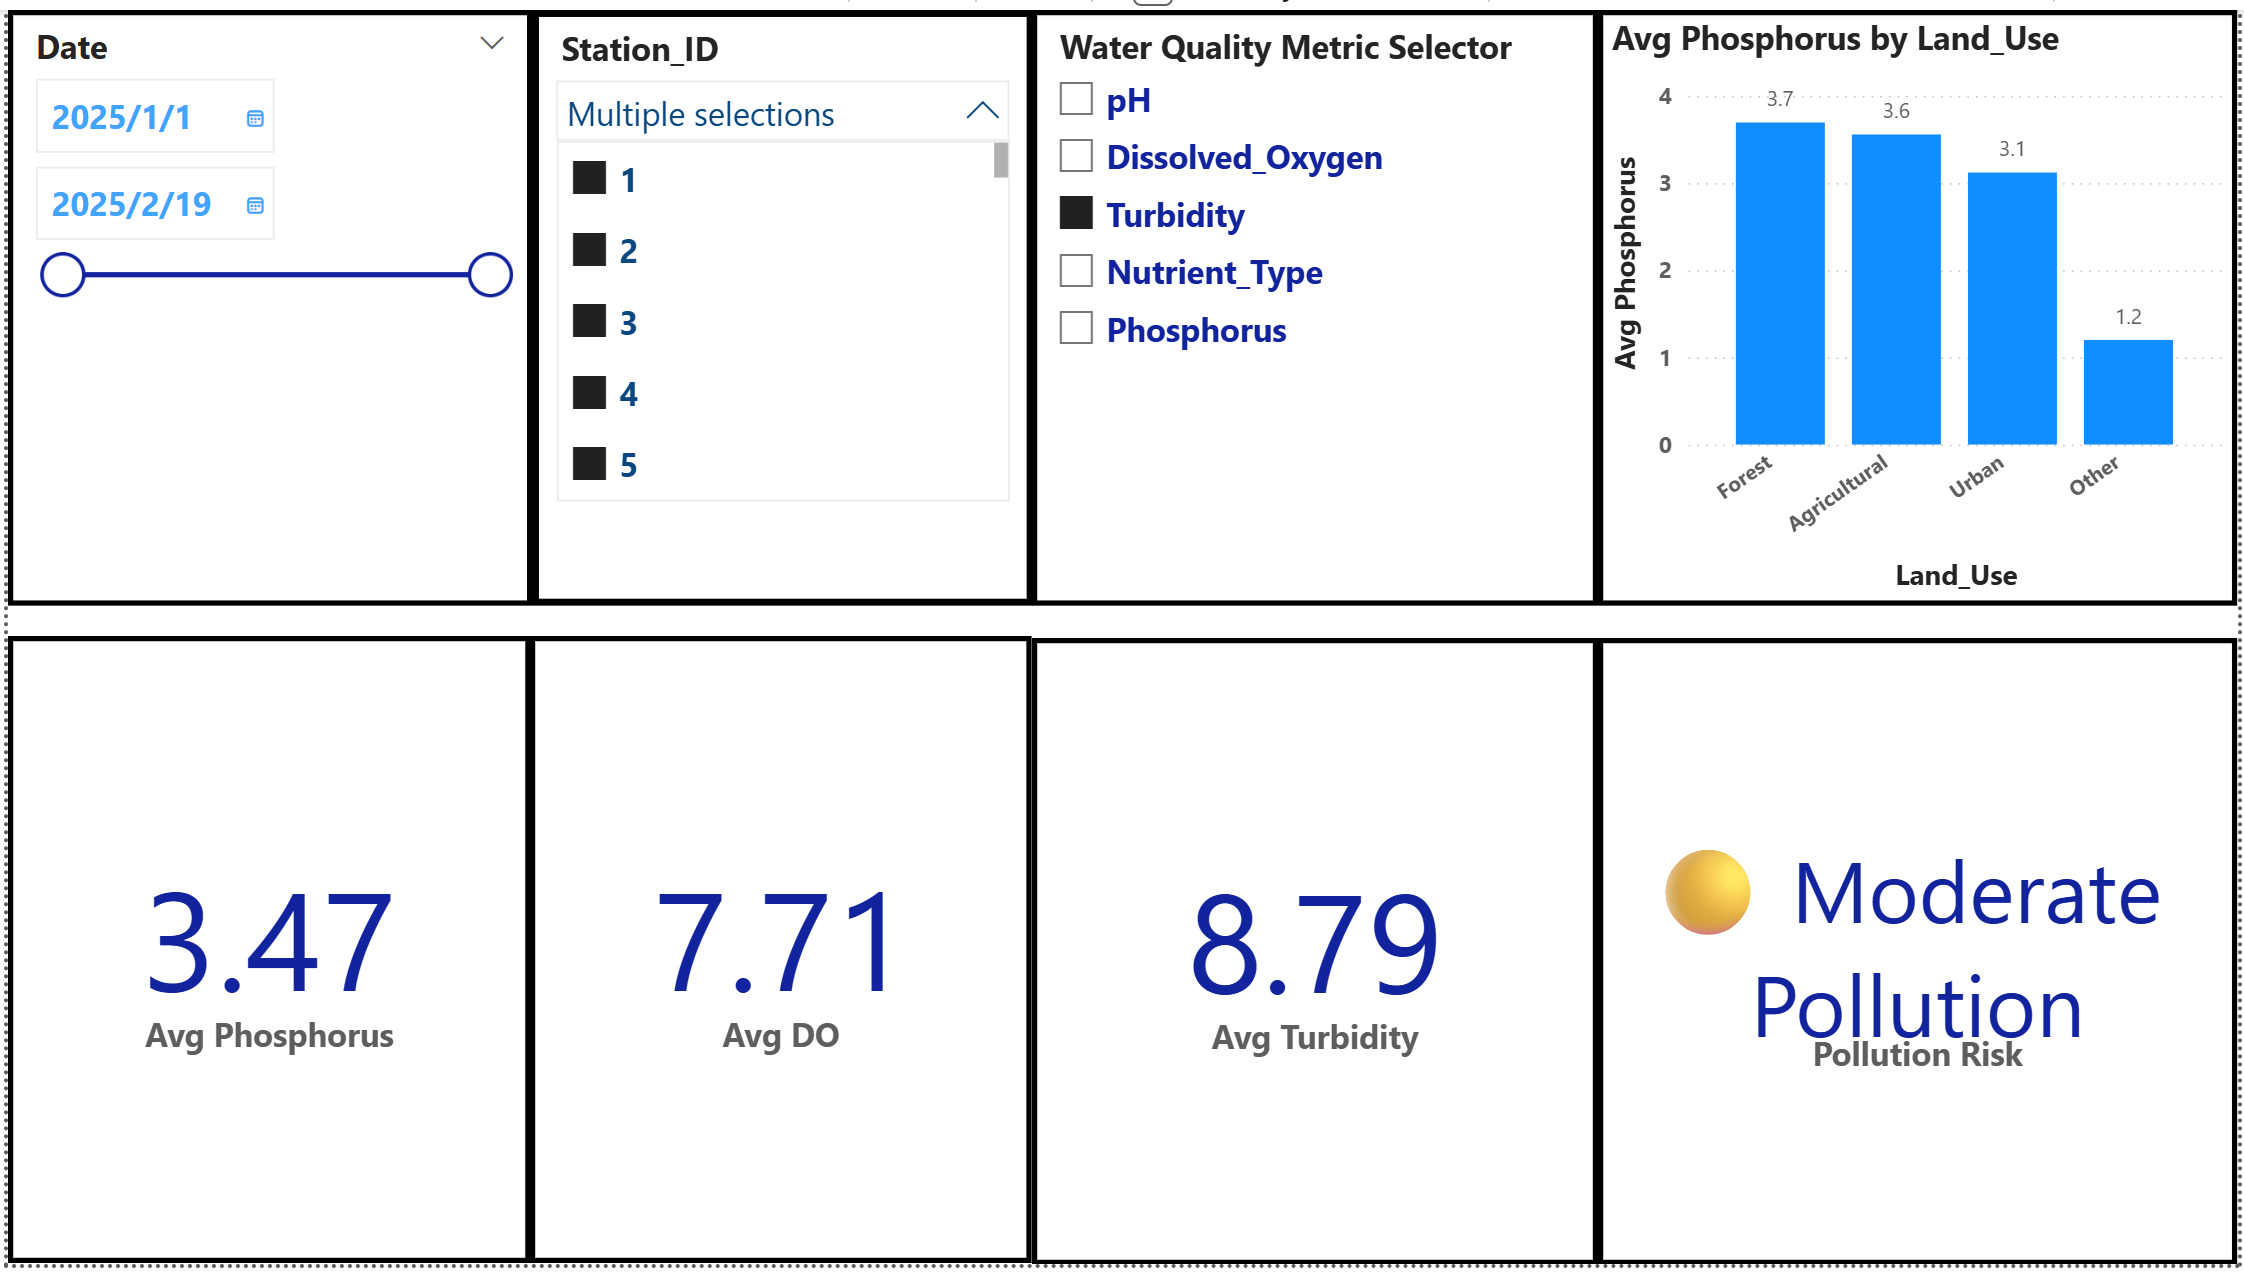

This screenshot's page, from the dashboard's own definition file:
{"tool":"powerbi","page":{"name":"Interactive Dashboard","canvas":[1280,720],"ordinal":1},"visuals":[{"type":"slicer","fields":{"Values":["WaterQuality.Date"]},"box":[0,0,301,342],"z":0},{"type":"slicer","fields":{"Values":["Dim_Station.Station_ID"]},"box":[301,0,288,342],"z":1000},{"type":"clusteredColumnChart","title":"Avg Phosphorus by Land_Use","fields":{"Y":["Sum(LandUse Summary.Avg Phosphorus)"],"Category":["LandUse Summary.Land_Use"]},"box":[913,0,367,342],"z":2000},{"type":"slicer","fields":{"Values":["Water Quality Metric Selector.Water Quality Metric Selector"]},"box":[588,0,325,342],"z":3000},{"type":"card","fields":{"Values":["Dim_Station.Avg Phosphorus"]},"box":[0,359.9,300.2,359.9],"z":4000},{"type":"card","fields":{"Values":["Dim_Station.Avg DO"]},"box":[300.2,359.9,288,359.9],"z":5000},{"type":"card","fields":{"Values":["Dim_Station.Avg Turbidity"]},"box":[588,360,325,360],"z":6000},{"type":"card","fields":{"Values":["Dim_Station.Pollution Risk"]},"box":[913,360,367,360],"z":7000}]}

Visuals, with their boxes in screenshot pixels (x1, y1, x2, y2), scaled from the page's 1280x720 canvas onto the 2244x1274 screenshot:
slicer - WaterQuality.Date: left=0, top=0, right=528, bottom=605
slicer - Dim_Station.Station_ID: left=528, top=0, right=1033, bottom=605
"Avg Phosphorus by Land_Use" clusteredColumnChart: left=1601, top=0, right=2243, bottom=605
slicer - Water Quality Metric Selector.Water Quality Metric Selector: left=1031, top=0, right=1601, bottom=605
card - Dim_Station.Avg Phosphorus: left=0, top=637, right=526, bottom=1273
card - Dim_Station.Avg DO: left=526, top=637, right=1031, bottom=1273
card - Dim_Station.Avg Turbidity: left=1031, top=637, right=1601, bottom=1273
card - Dim_Station.Pollution Risk: left=1601, top=637, right=2243, bottom=1273
